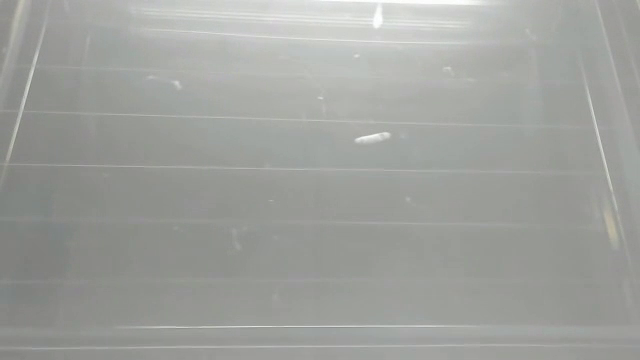alpha: (350, 127, 402, 154), (370, 1, 385, 31)
